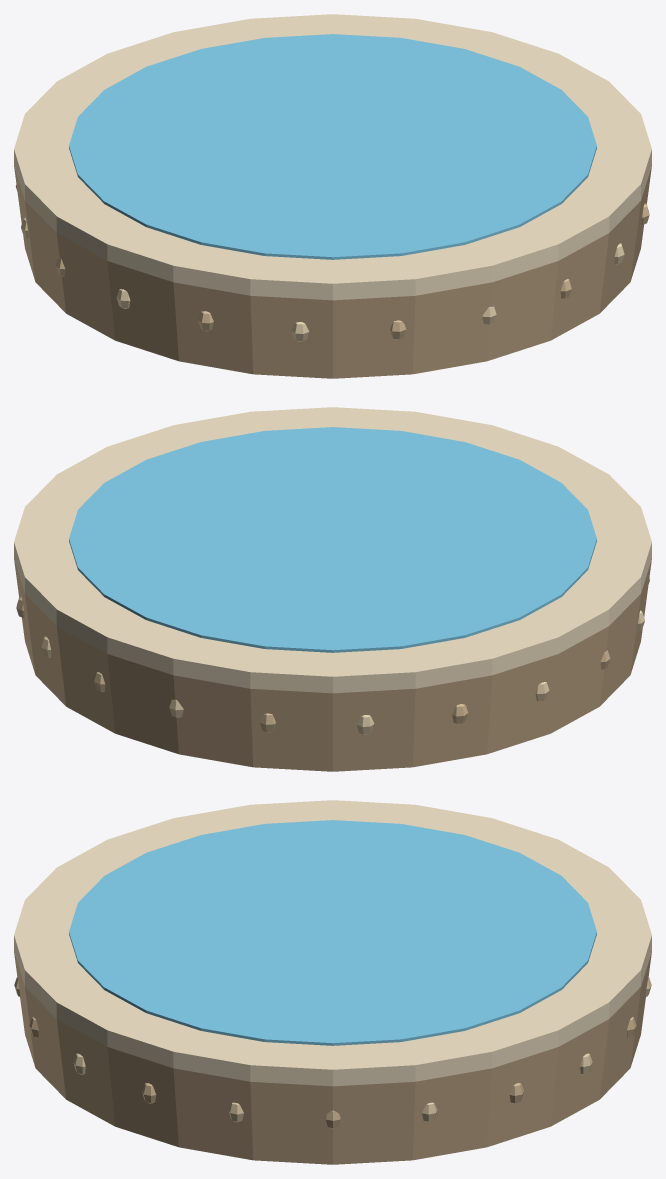
The model's file is cisterna_oasis.glb.
3 renders of one model, top to bottom at view 1: azimuth 30°, elevation 25°; view 2: azimuth 150°, elevation 25°; view 3: azimuth 270°, elevation 25°, orthographic.
Visible parts, largest first — view 1: cisterna_oasis; view 2: cisterna_oasis; view 3: cisterna_oasis.
Part boxes in pixels (x1,y1,x2,y2): cisterna_oasis: [14, 14, 651, 378]; cisterna_oasis: [14, 407, 651, 771]; cisterna_oasis: [14, 800, 651, 1164].
Size of the model in its own units: 8.7 by 1.55 by 8.7.
